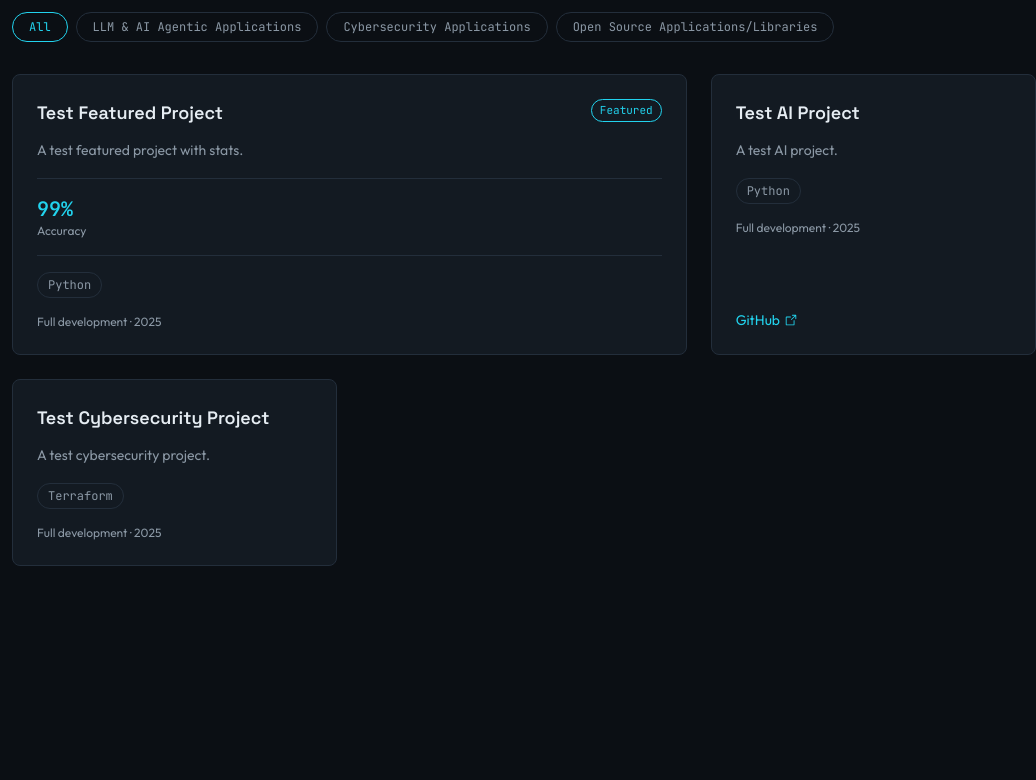
Scenario: ProjectFilter › filters to only the selected category
Click the button "Cybersecurity Applications": (437, 27) [326, 12, 548, 42]
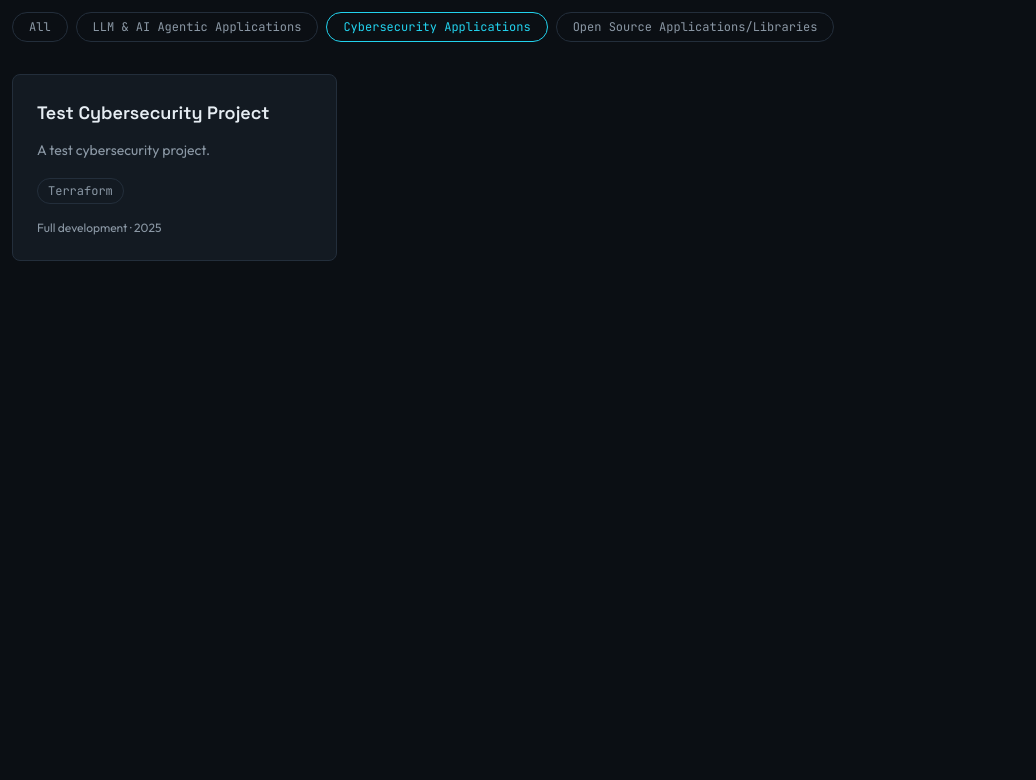
Expected: the heading "Test Cybersecurity Project" is shown, [37, 99, 269, 127]
Now the heading "Test AI Project" is gone
Now the heading "Test Featured Project" is gone
